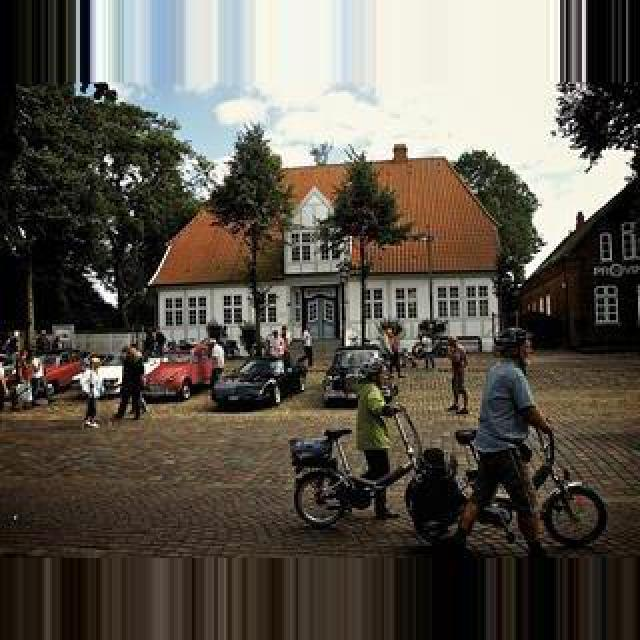Bus-Bike: (212, 354, 308, 410), (320, 348, 392, 408), (142, 348, 218, 402), (454, 336, 482, 354)
MC-Bike: (464, 330, 558, 546), (352, 360, 402, 496), (406, 448, 472, 544), (116, 342, 148, 420), (446, 336, 468, 414), (266, 326, 290, 374)
Person: (428, 426, 610, 554), (294, 428, 420, 528)
